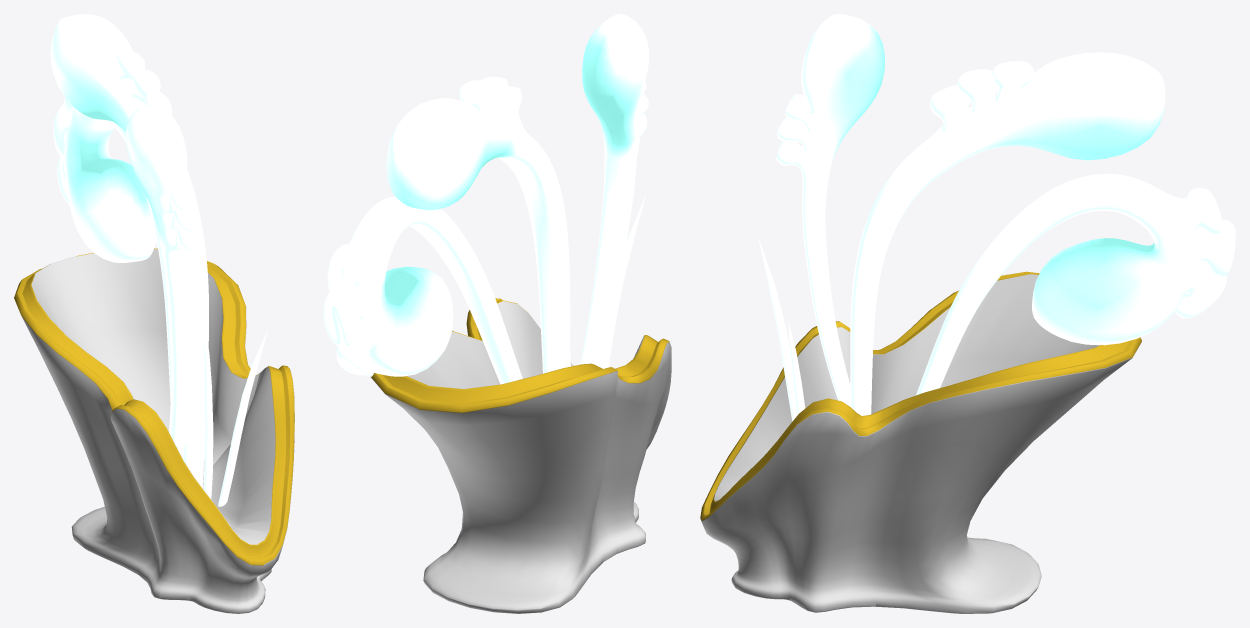
Rendered from toilet.fbx.
The picture shows the model from 3 angles, left to right: view 1: azimuth 30°, elevation 25°; view 2: azimuth 150°, elevation 25°; view 3: azimuth 270°, elevation 25°; orthographic projection. The views are drawn at different scales.
Visible parts, largest first — view 1: toiletmain_lp, toiletarm2_lp, toiletarm1_lp, toiletarm3_lp, toieltgrass2_lp, toiletgrass1_lp; view 2: toiletmain_lp, toiletarm3_lp, toiletarm2_lp, toiletarm1_lp, toiletgrass1_lp; view 3: toiletmain_lp, toiletarm3_lp, toiletarm2_lp, toiletarm1_lp, toiletgrass1_lp.
Part boxes in pixels (x1,y1,x2,y2): toiletmain_lp: (14, 248, 294, 613); toiletarm2_lp: (50, 14, 208, 488); toiletarm1_lp: (126, 105, 197, 458); toiletarm3_lp: (53, 97, 170, 401); toieltgrass2_lp: (218, 330, 267, 506); toiletgrass1_lp: (203, 321, 213, 499); toiletmain_lp: (370, 298, 671, 613); toiletarm3_lp: (323, 196, 522, 384); toiletarm2_lp: (386, 76, 570, 373); toiletarm1_lp: (580, 14, 648, 367); toiletgrass1_lp: (601, 195, 645, 368); toiletmain_lp: (700, 271, 1141, 613); toiletarm3_lp: (916, 173, 1235, 395); toiletarm2_lp: (850, 52, 1165, 415); toiletarm1_lp: (776, 14, 884, 406); toiletgrass1_lp: (758, 237, 796, 421).
Bounding box in the file's own units: 1.13 × 2.58 × 2.31.
